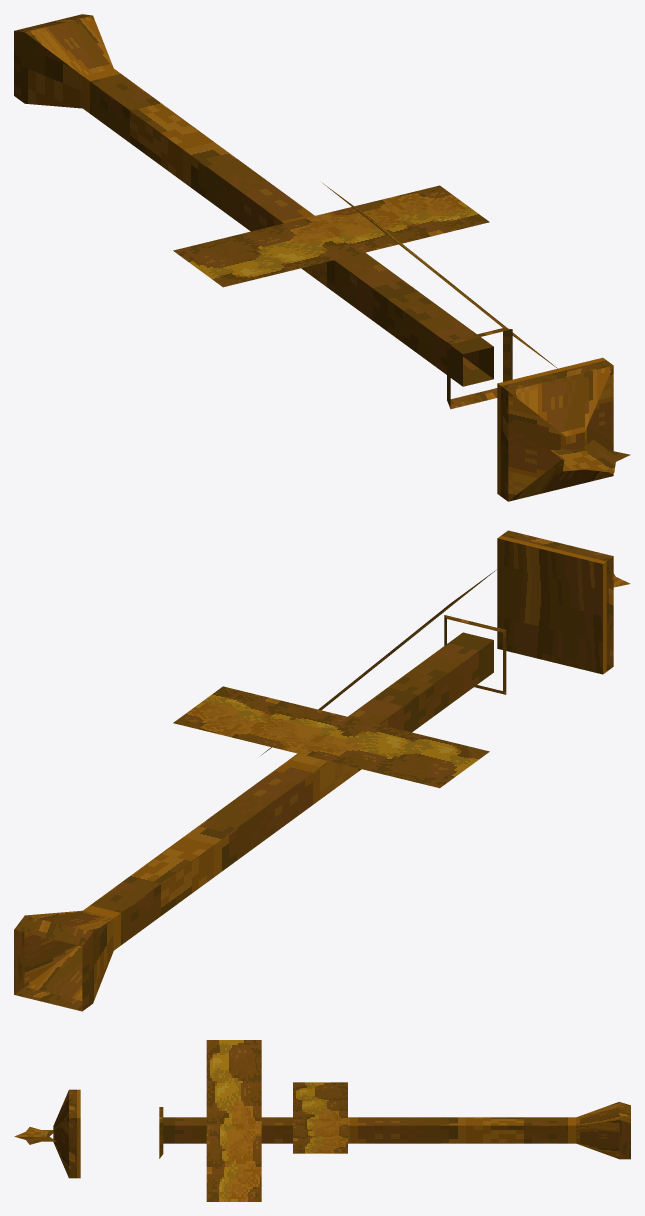
The model's file is lightpost.obj.
3 renders of one model, top to bottom at view 1: azimuth 30°, elevation 25°; view 2: azimuth 150°, elevation 25°; view 3: azimuth 270°, elevation 25°, orthographic. The views are drawn at different scales.
Parts seen in each view (by area): view 1: Mesh4 Model, Mesh5 Model, Mesh2 Model, Mesh3 Model, Mesh1 Model, Mesh6 Model; view 2: Mesh4 Model, Mesh2 Model, Mesh5 Model, Mesh3 Model, Mesh6 Model; view 3: Mesh4 Model, Mesh6 Model, Mesh5 Model, Mesh2 Model, Mesh1 Model, Mesh3 Model.
Boxes of the visible parts, x1,y1,x2,y2 form: Mesh4 Model: (14, 14, 493, 386); Mesh5 Model: (173, 185, 489, 287); Mesh2 Model: (497, 357, 613, 501); Mesh3 Model: (447, 328, 512, 409); Mesh1 Model: (550, 439, 630, 472); Mesh6 Model: (323, 183, 557, 368); Mesh4 Model: (14, 632, 493, 1011); Mesh2 Model: (497, 530, 613, 674); Mesh5 Model: (173, 686, 489, 788); Mesh3 Model: (444, 615, 506, 694); Mesh6 Model: (261, 567, 499, 755); Mesh4 Model: (163, 1102, 630, 1159); Mesh6 Model: (206, 1040, 261, 1201); Mesh5 Model: (293, 1082, 347, 1153); Mesh2 Model: (53, 1089, 80, 1178); Mesh1 Model: (14, 1127, 56, 1144); Mesh3 Model: (159, 1107, 163, 1158).
Size of the model in its own units: 8.13 by 5.86 by 29.67.
